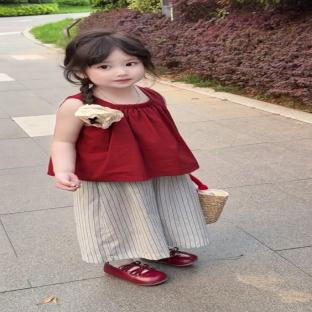Human: (48, 30, 208, 285)
